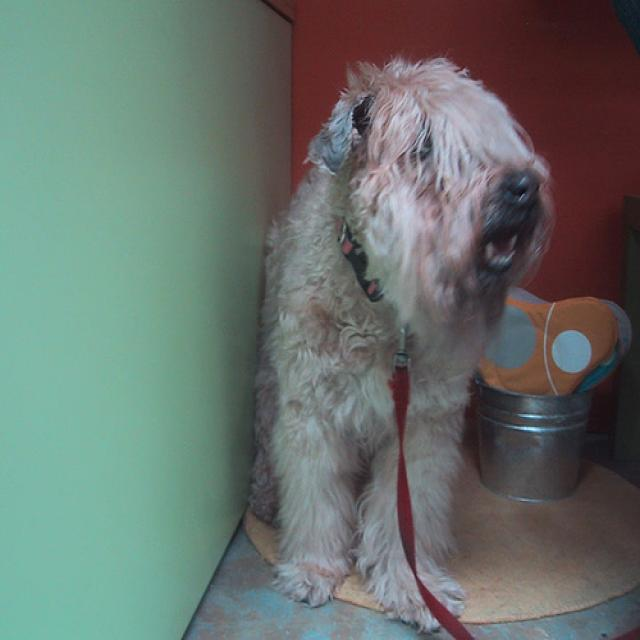dog-wheaten_terrier: (243, 59, 549, 637)
